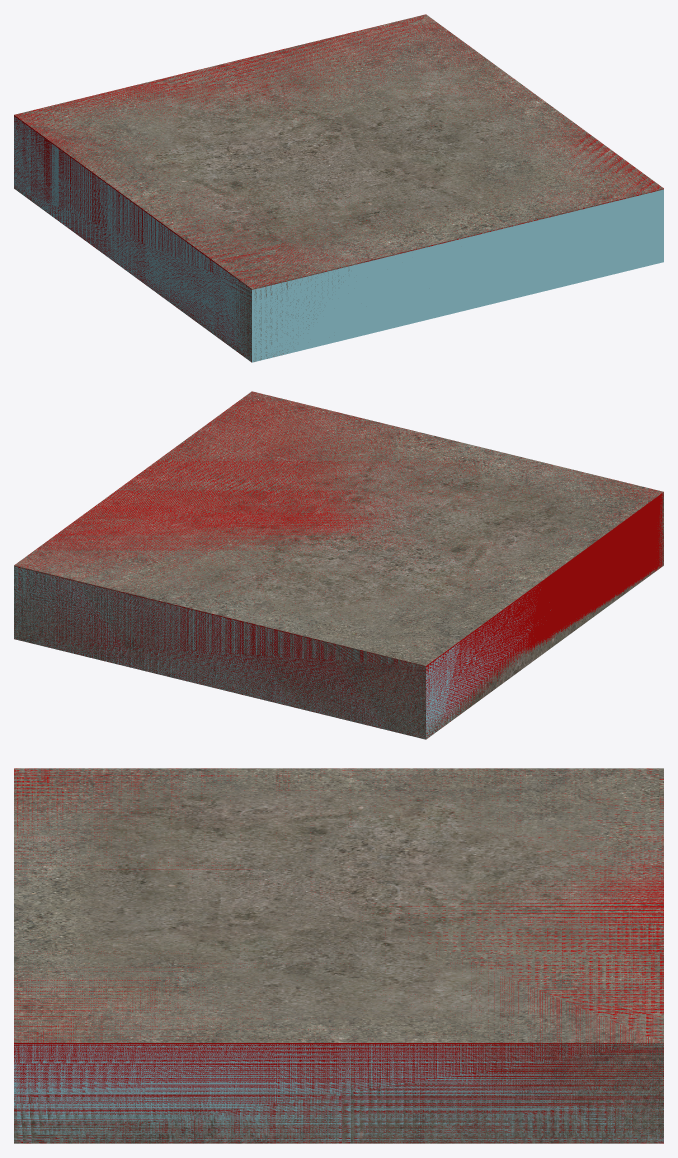
File: SciFi_floor_tile_03.DAE
3 views of the same model, one above another, from view 1: azimuth 30°, elevation 25°; view 2: azimuth 150°, elevation 25°; view 3: azimuth 270°, elevation 25° (orthographic). The views are drawn at different scales.
Parts seen in each view (by area): view 1: floor_tile_three, colbox-01, bounds; view 2: floor_tile_three, bounds, colbox-01; view 3: floor_tile_three, bounds, colbox-01.
Boxes of the visible parts, x1,y1,x2,y2 form: floor_tile_three: (14, 14, 663, 362); colbox-01: (14, 116, 663, 362); bounds: (14, 14, 663, 361); floor_tile_three: (14, 391, 663, 739); bounds: (14, 391, 663, 739); colbox-01: (14, 566, 550, 738); floor_tile_three: (14, 768, 663, 1143); bounds: (14, 768, 663, 1143); colbox-01: (14, 1044, 663, 1143).
Size of the model in its own units: 700 by 700 by 120.
